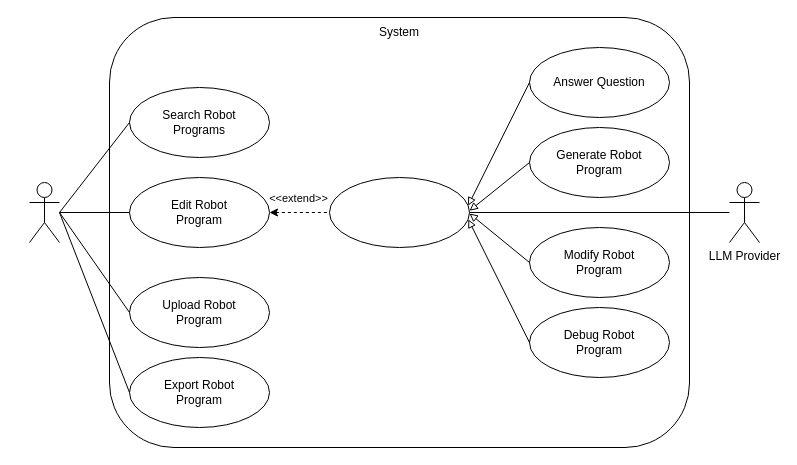
This 797x465 diagram has some shape labels left out. Here are the shapes that lost their labels. From the top down, the centre of each, then its label:
(44,212): Developer
(399,212): Get LLM assisted support
